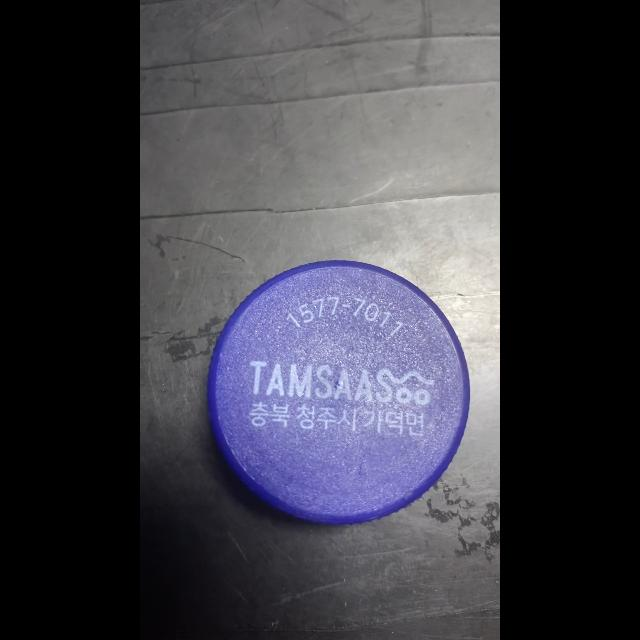plastic_bottle_cap: (212, 255, 474, 530)
